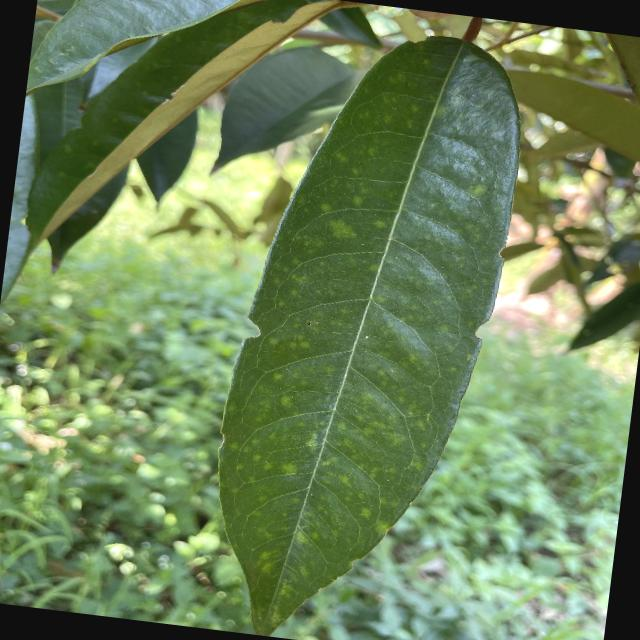Leaf Spot: (186, 3, 542, 639)
